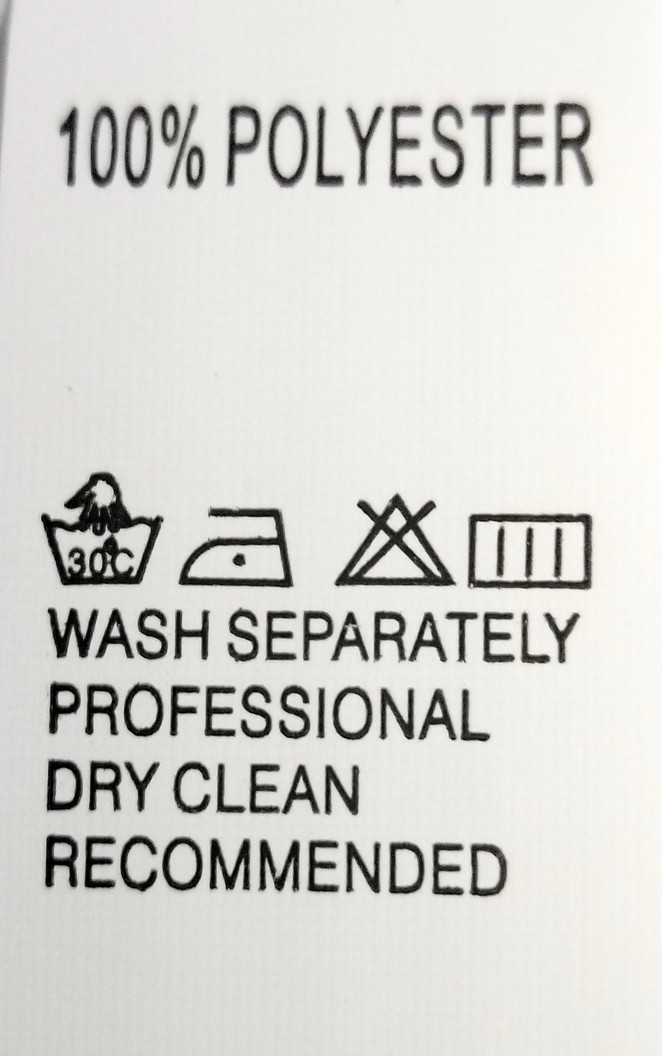ER_hand_wash: (32, 466, 167, 594)
ER_no_bleach: (330, 476, 455, 595)
ER_no_tumble_dry: (178, 496, 301, 595)
